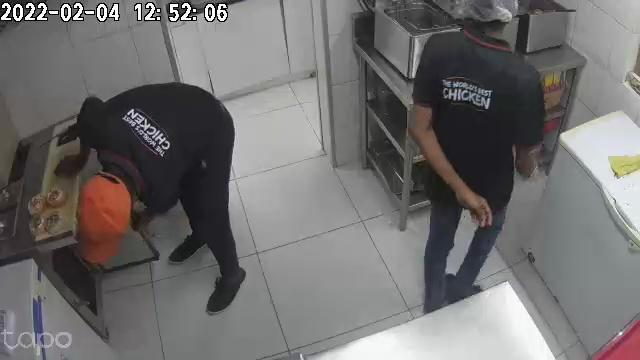no_gloves: (443, 171, 495, 228)
